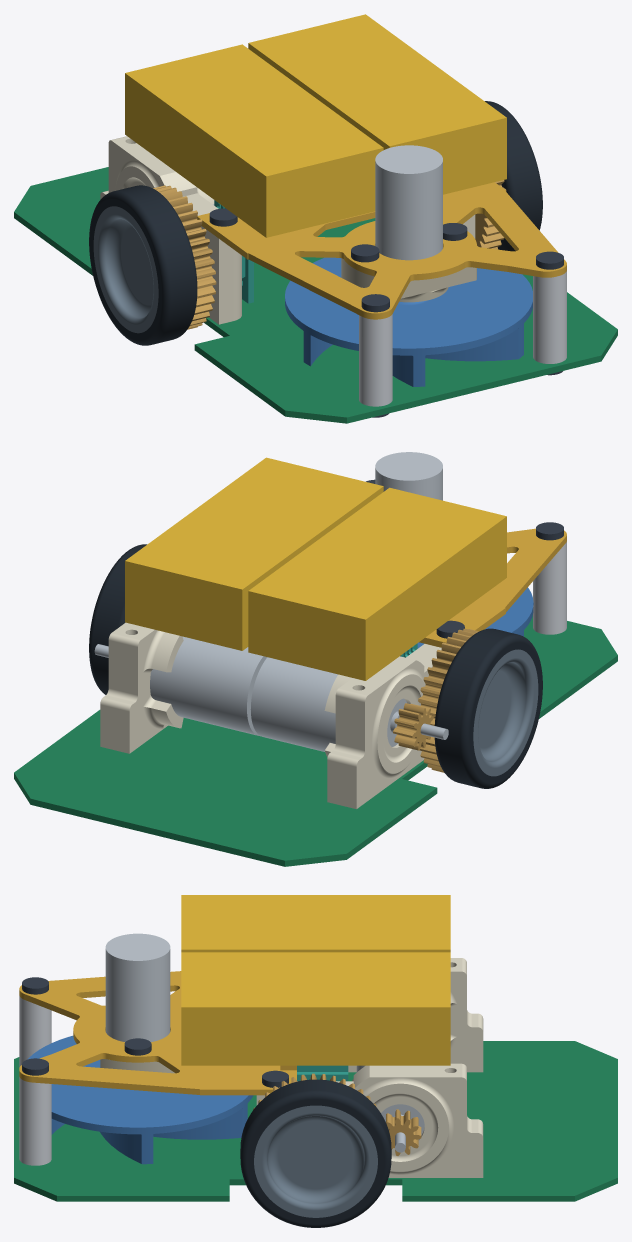
File: assembly-a06.glb
3 views of the same model, one above another, from view 1: azimuth 30°, elevation 25°; view 2: azimuth 150°, elevation 25°; view 3: azimuth 270°, elevation 25° (orthographic). The views are drawn at different scales.
Parts seen in each view (by area): view 1: 064_battery, 063_pcb, 065_battery, upper_plate, 062_fan, 003_tire, 060_fan_motor, 002_wheel, 027_mount, 033_tire, front_post_0, front_post_1 (+3 smaller); view 2: 063_pcb, 064_battery, 065_battery, 027_mount, 003_tire, 059_mount, 030_motor, 000_motor, 002_wheel, upper_plate, 033_tire, 060_fan_motor (+4 smaller); view 3: 063_pcb, 065_battery, 064_battery, upper_plate, 032_wheel, 062_fan, 059_mount, 033_tire, 060_fan_motor, 027_mount, front_post_1, front_post_0 (+3 smaller).
Part boxes in pixels (box(x1,y1,x2,y2)): 064_battery: box(125, 44, 383, 237); 063_pcb: box(14, 167, 617, 423); 065_battery: box(248, 14, 506, 194); upper_plate: box(197, 182, 566, 319); 062_fan: box(285, 257, 532, 386); 003_tire: box(89, 185, 197, 345); 060_fan_motor: box(375, 145, 442, 260); 002_wheel: box(93, 206, 158, 333); 027_mount: box(100, 136, 241, 324); 033_tire: box(485, 101, 542, 251); front_post_0: box(359, 314, 392, 406); front_post_1: box(533, 271, 566, 363); 063_pcb: box(14, 615, 617, 866); 064_battery: box(248, 487, 506, 680); 065_battery: box(125, 457, 383, 650); 027_mount: box(324, 644, 441, 809); 003_tire: box(434, 628, 542, 788); 059_mount: box(100, 622, 183, 753); 030_motor: box(94, 636, 267, 736); 000_motor: box(250, 657, 448, 751); 002_wheel: box(473, 649, 538, 776); upper_plate: box(419, 528, 566, 647); 033_tire: box(89, 544, 146, 694); 060_fan_motor: box(375, 452, 442, 500); 063_pcb: box(14, 1041, 617, 1201); 065_battery: box(181, 952, 450, 1065); 064_battery: box(181, 895, 450, 952); upper_plate: box(19, 971, 296, 1095); 032_wheel: box(254, 1105, 377, 1217); 062_fan: box(27, 1035, 253, 1164); 059_mount: box(256, 1063, 483, 1177); 033_tire: box(240, 1079, 391, 1227); 060_fan_motor: box(105, 933, 170, 1041); 027_mount: box(348, 958, 483, 1072); front_post_1: box(19, 1077, 51, 1165); front_post_0: box(19, 996, 51, 1067).
Bounding box in the file's own units: 38.8 × 19.88 × 56.
